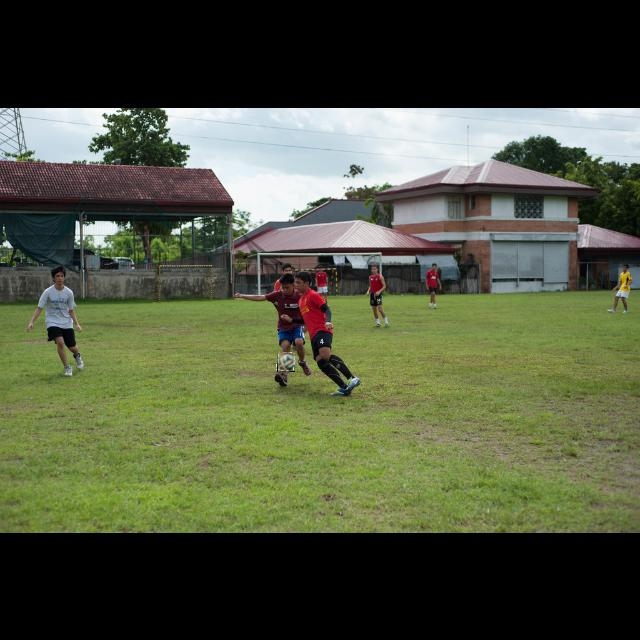Football: (277, 352, 295, 372)
